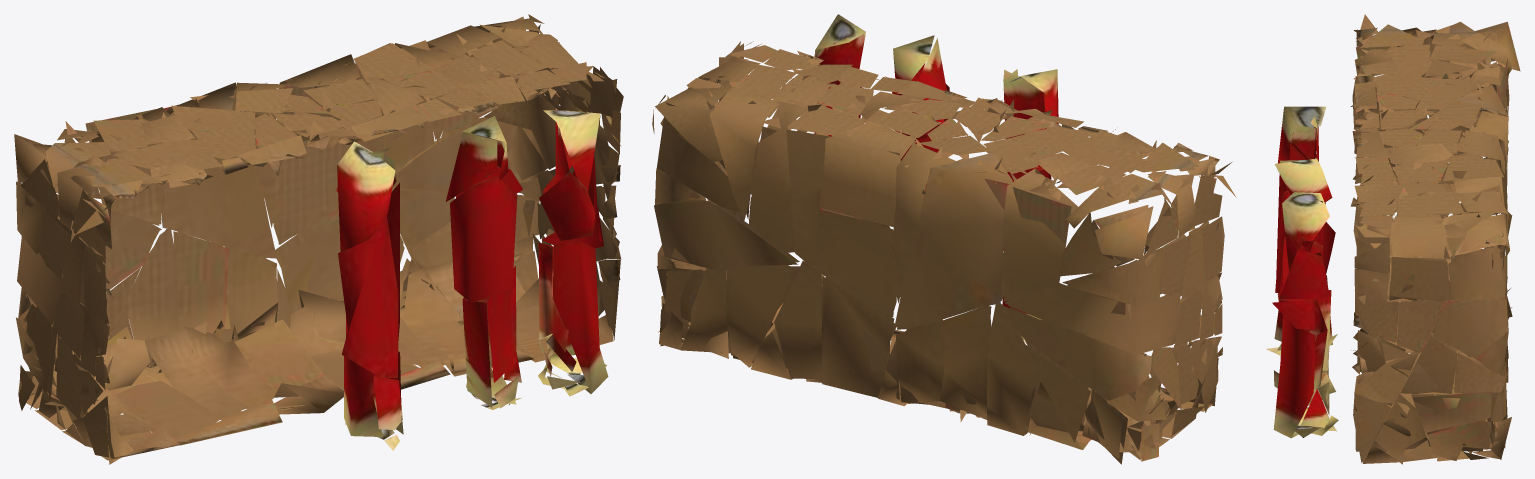
File: shells.glb
3 renders of one model, left to right at view 1: azimuth 30°, elevation 25°; view 2: azimuth 150°, elevation 25°; view 3: azimuth 270°, elevation 25°, orthographic. The views are drawn at different scales.
Parts seen in each view (by area): view 1: Mesh_0; view 2: Mesh_0; view 3: Mesh_0.
Part boxes in pixels (x1,y1,x2,y2): Mesh_0: (14,14,623,464); Mesh_0: (652,14,1236,464); Mesh_0: (1266,14,1520,464).
Size of the model in its own units: 2 by 1.02 by 0.9546.
Materials: 1 (1 with a texture image).
